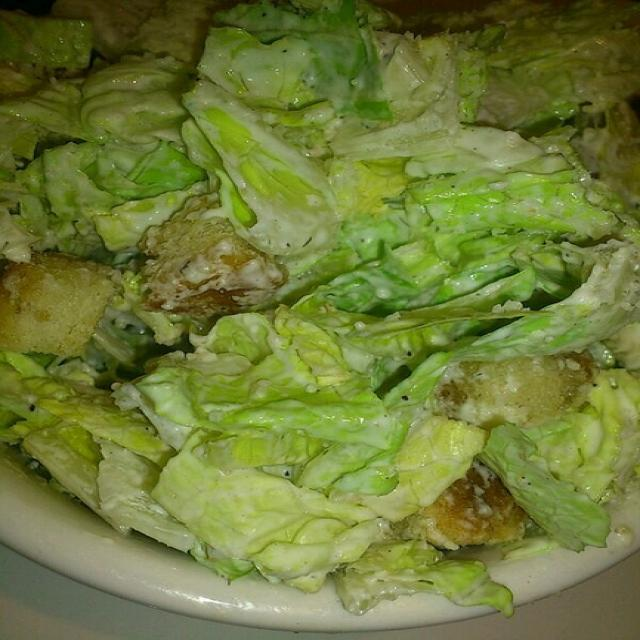蔬菜料理: (9, 14, 630, 624)
